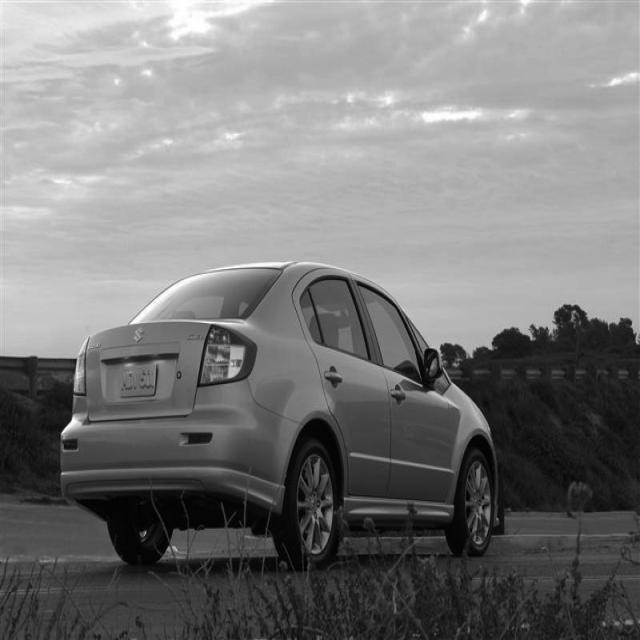car: (59, 260, 499, 570)
plat_license: (118, 363, 157, 397)
